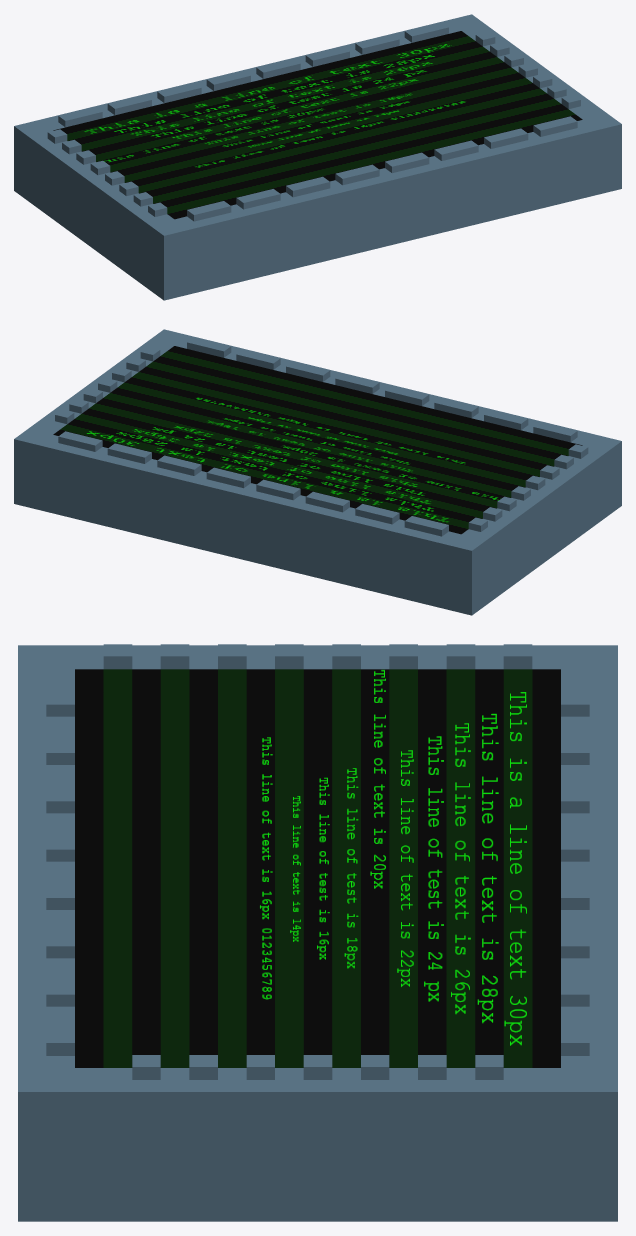
File: flight computer.glb
The picture shows the model from 3 angles, top to bottom: view 1: azimuth 30°, elevation 25°; view 2: azimuth 150°, elevation 25°; view 3: azimuth 270°, elevation 25°; orthographic projection. The views are drawn at different scales.
Visible parts, largest first — view 1: Plane.002, Plane.003; view 2: Plane.002, Plane.003; view 3: Plane.003, Plane.002.
Boxes of the visible parts, x1,y1,x2,y2 form: Plane.002: [14, 14, 621, 300]; Plane.003: [53, 31, 582, 219]; Plane.002: [14, 329, 621, 615]; Plane.003: [53, 346, 582, 534]; Plane.003: [75, 669, 560, 1067]; Plane.002: [18, 644, 617, 1221].
Size of the model in its own units: 0.37 by 0.055 by 0.21.
2 materials, 1 textured.
